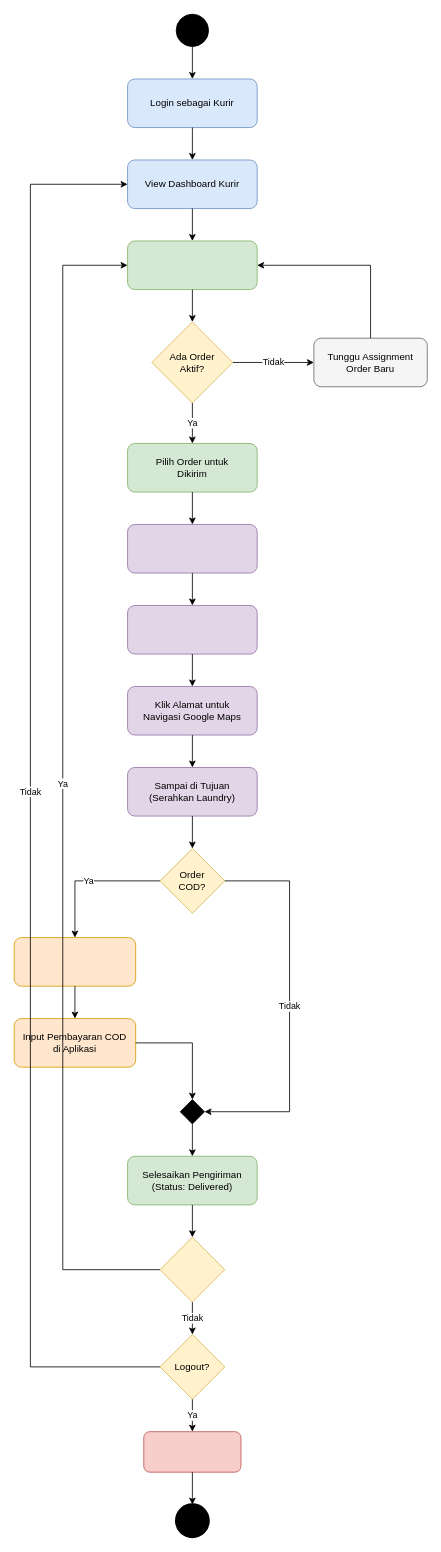
Image size: 441x1552. Some labels were removed from this diagram. Here are the shapes that lost their labels. From the top down, the centre of each, then its label:
At (192,265): "Lihat Daftar Order yang Di-Assign".
At (192,548): "Lihat Detail Order (Alamat, Items, COD?)".
At (192,629): "Mulai Pengiriman (Status: On Delivery)".
At (74,961): "Terima Pembayaran COD dari Customer".
At (192,1269): "Ada Order Lain?".
At (192,1451): "Logout".
